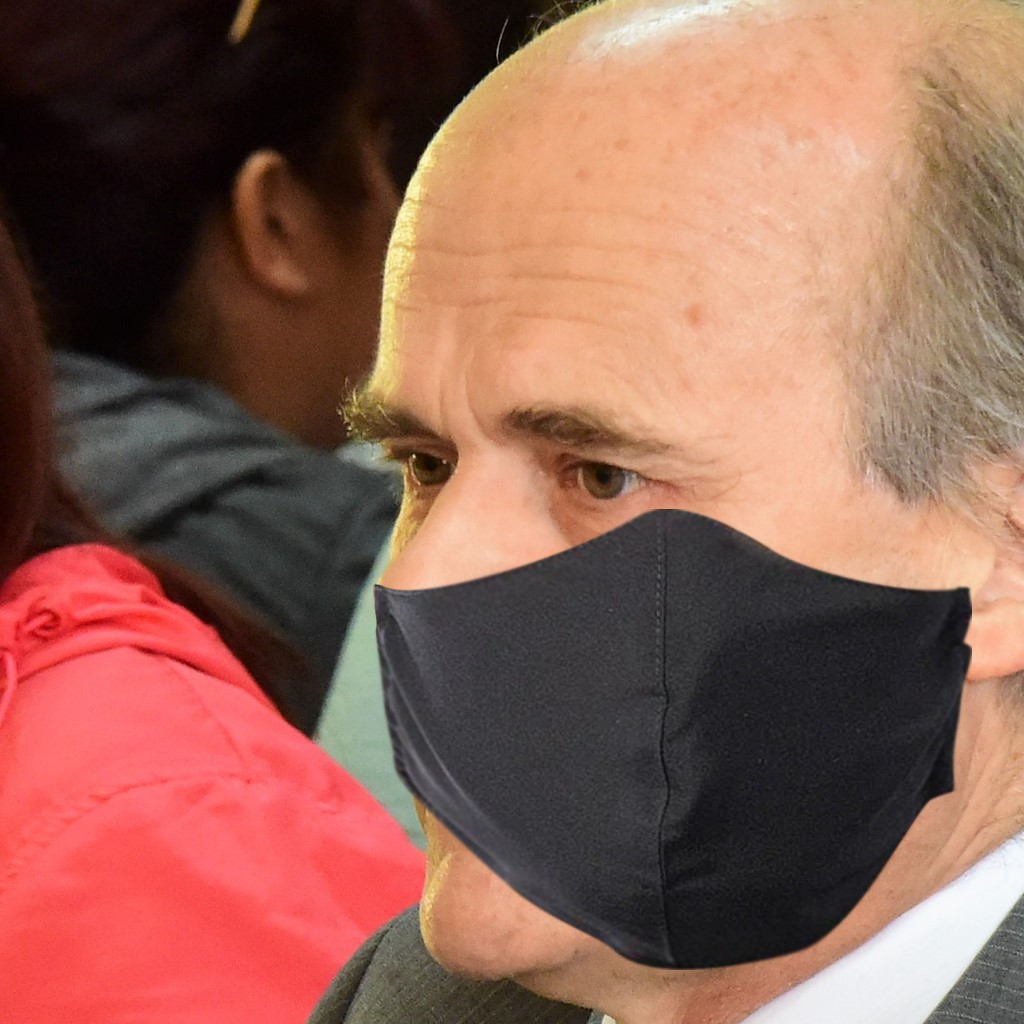con_mascara: (379, 141, 985, 963)
